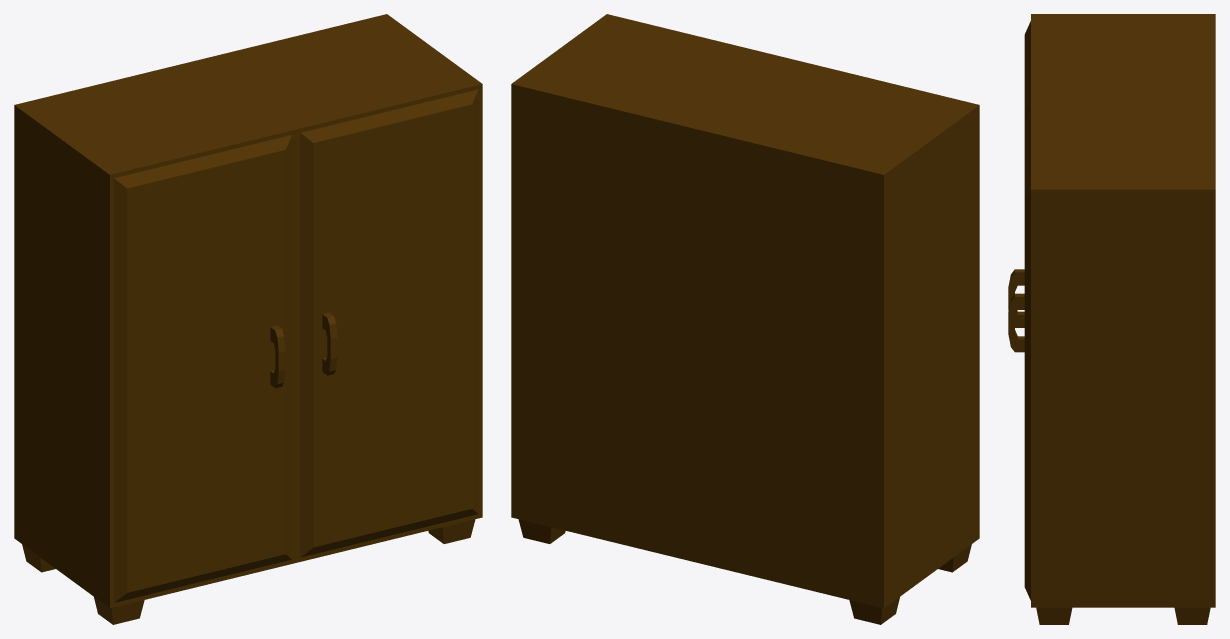
The model's file is WardrobeModel.FBX.
The picture shows the model from 3 angles, left to right: view 1: azimuth 30°, elevation 25°; view 2: azimuth 150°, elevation 25°; view 3: azimuth 270°, elevation 25°; orthographic projection. The views are drawn at different scales.
Parts seen in each view (by area): view 1: wardrobe; view 2: wardrobe; view 3: wardrobe.
Boxes of the visible parts, bbox=[...] form: wardrobe: bbox=[14, 14, 482, 624]; wardrobe: bbox=[511, 14, 979, 624]; wardrobe: bbox=[1008, 14, 1215, 624].
Size of the model in its own units: 90 by 105 by 44.95.
